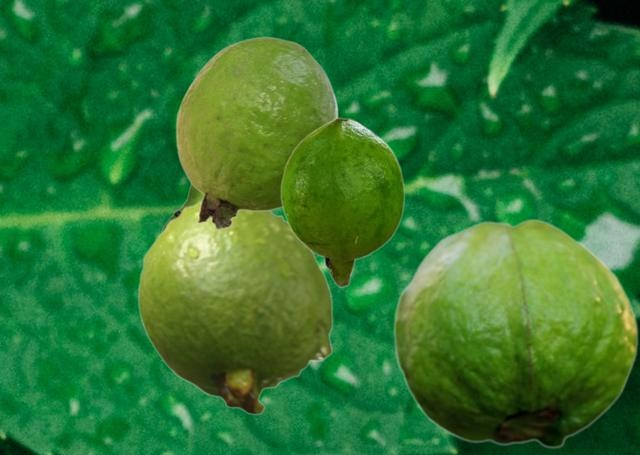guava: (393, 218, 637, 448), (137, 199, 332, 414), (175, 36, 337, 229), (280, 117, 404, 287), (161, 184, 202, 230)
